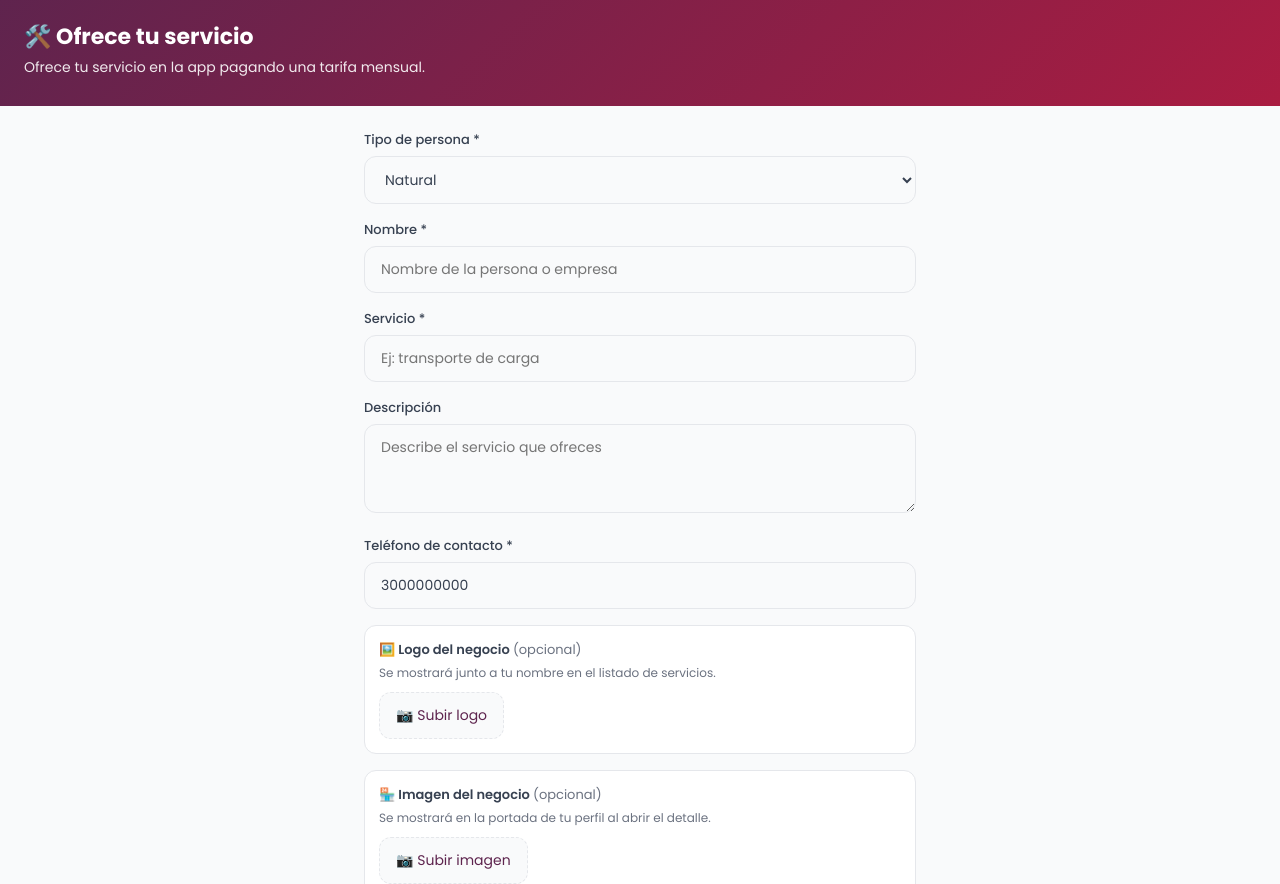
Scenario: RegistroServicio › envía los datos al backend al enviar el formulario
This screenshot has width=1280, height=884.
Type "Técnico Juan" into the field with placeholder "Nombre de la persona o empresa" at x=640, y=270, box x1=364 y1=246 x2=916 y2=293
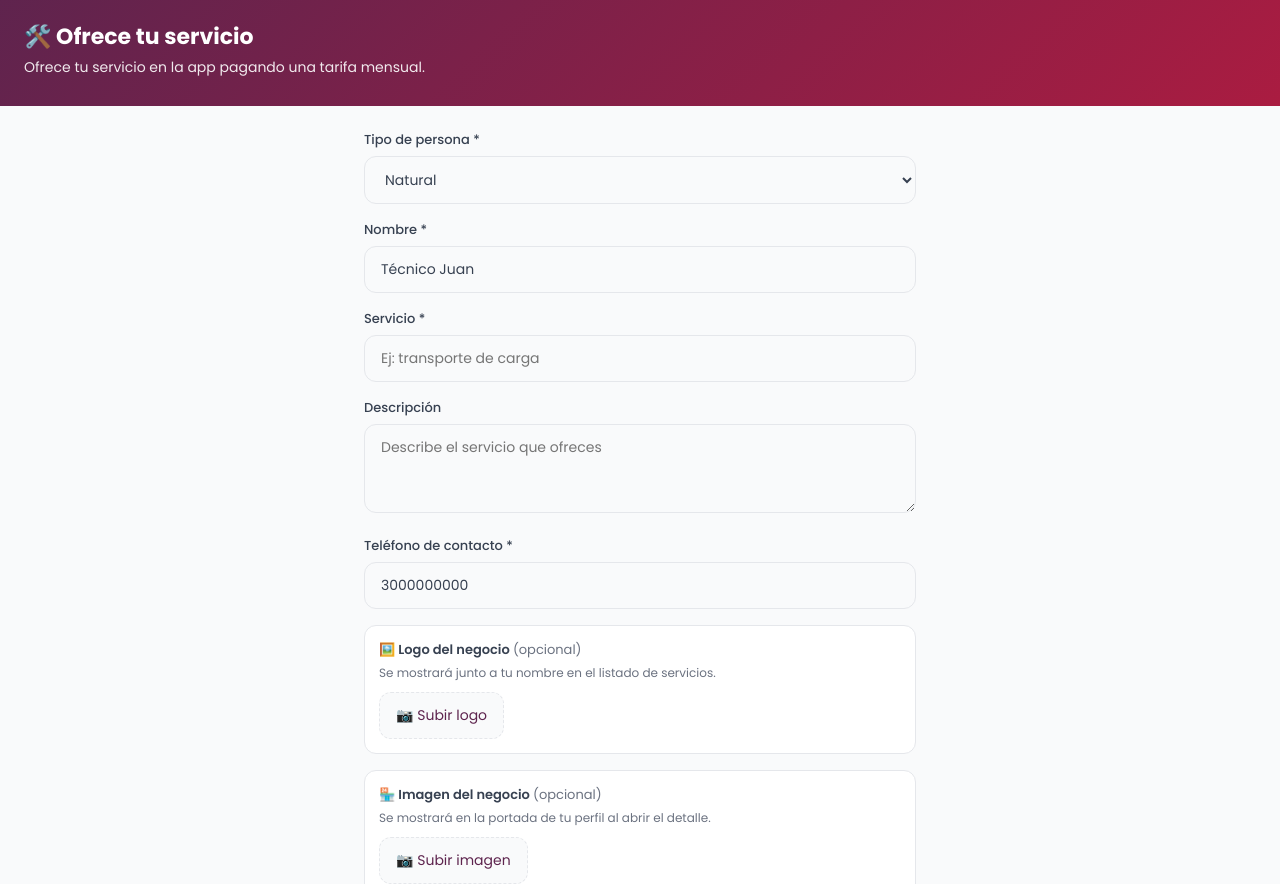
Type "Plomería" into the field with placeholder "Ej: transporte de carga" at x=640, y=358, box x1=364 y1=335 x2=916 y2=382
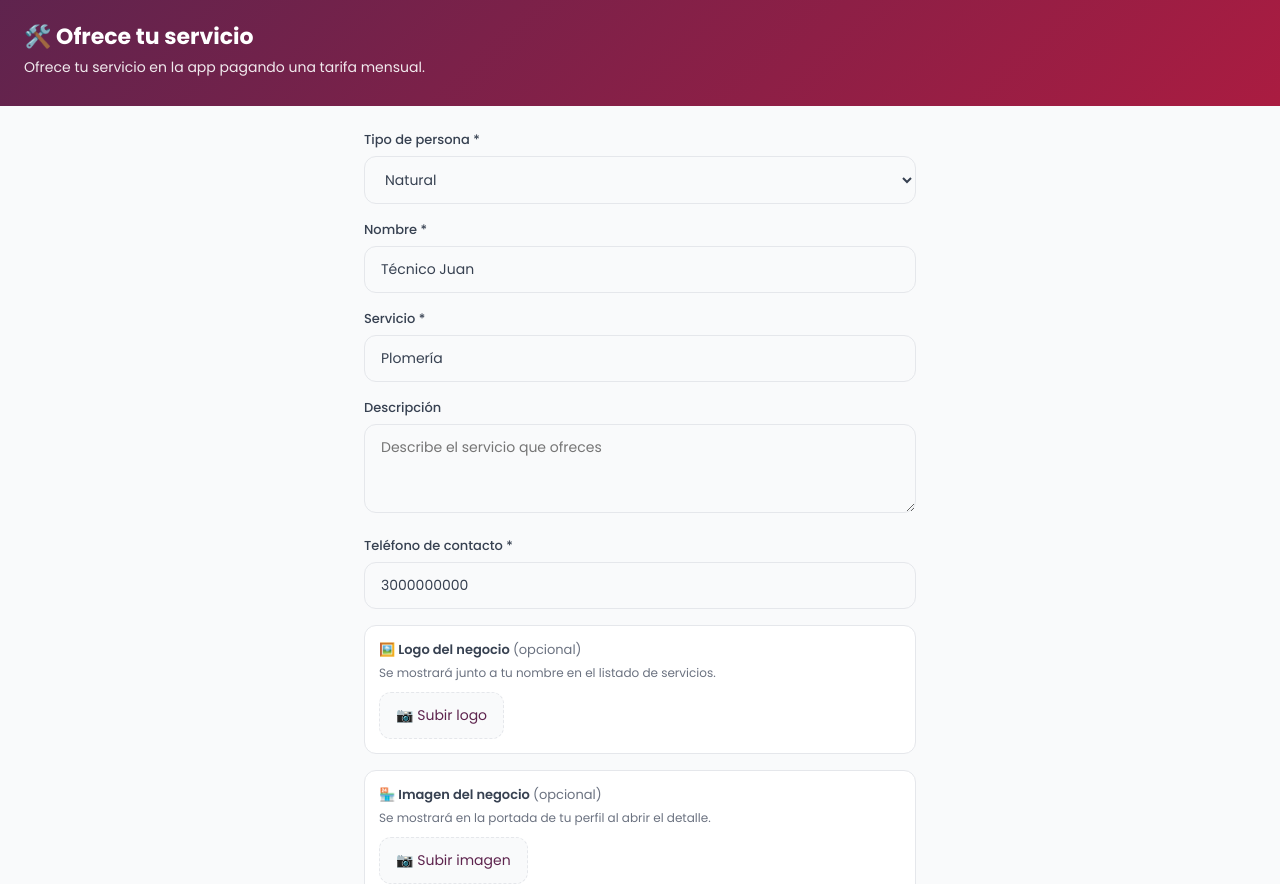
Type "Reparaciones" into the text box with placeholder "Describe el servicio que ofreces" at x=640, y=468, box x1=364 y1=424 x2=916 y2=513
(page scrolled)
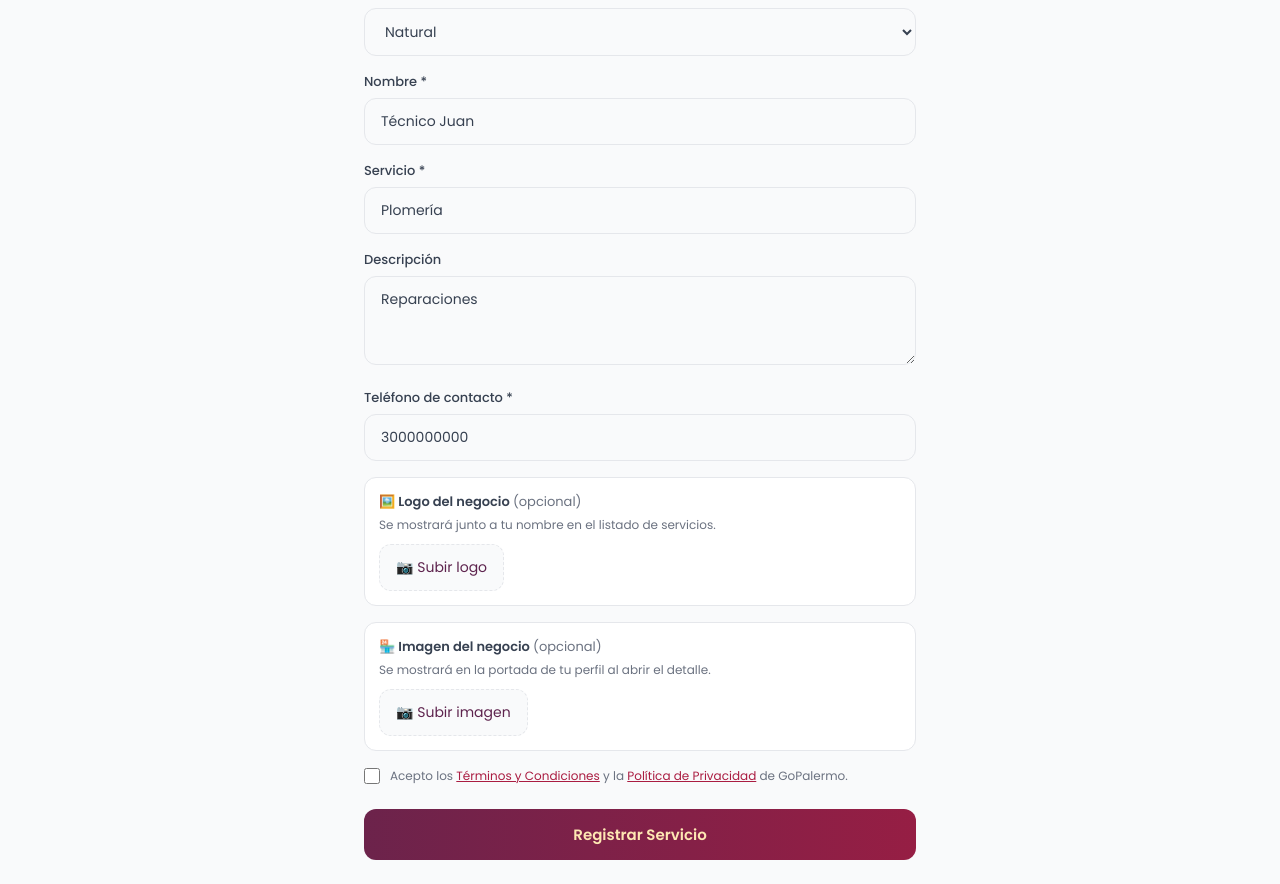
Click the checkbox at x=372, y=776, box x1=364 y1=768 x2=380 y2=784
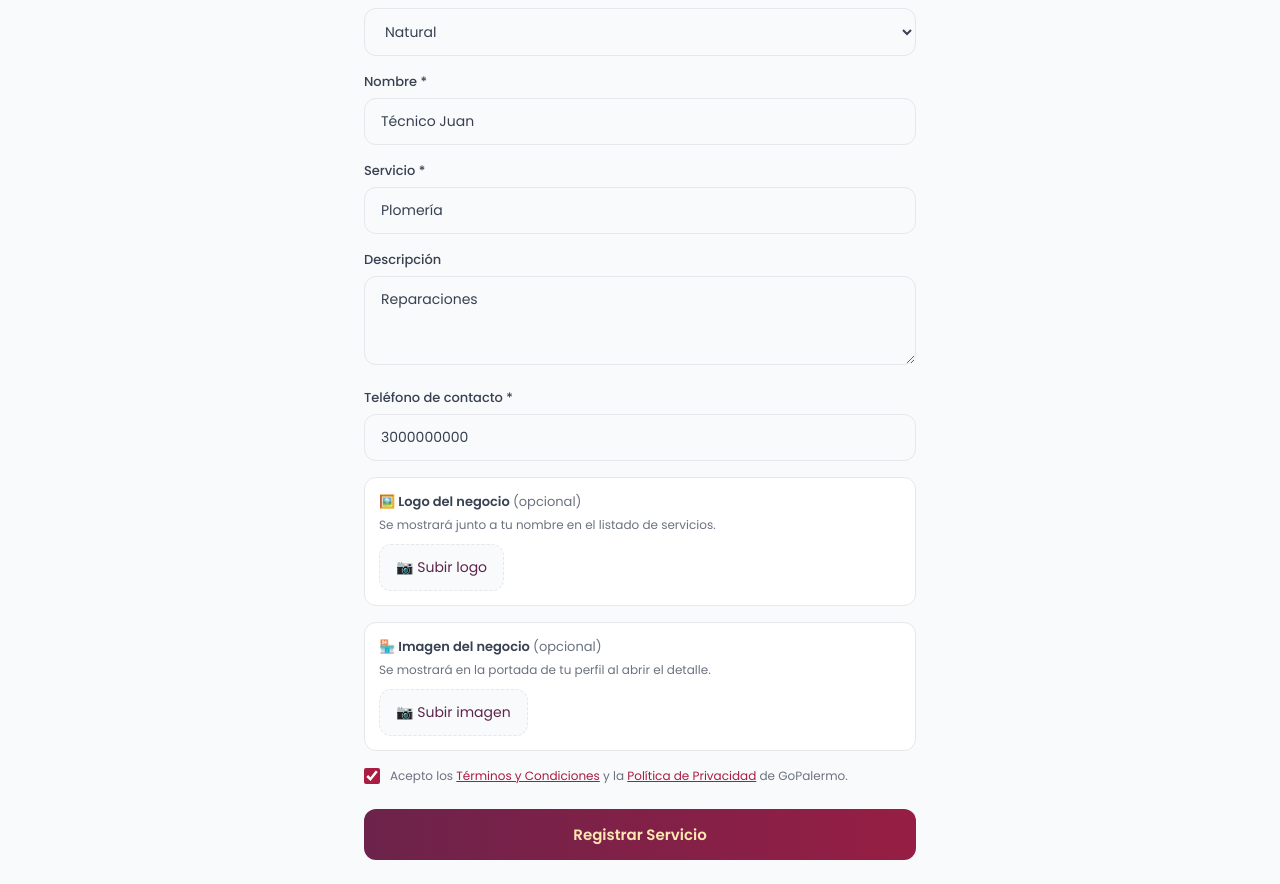
Click the button "Registrar Servicio" at x=640, y=834, box x1=364 y1=809 x2=916 y2=860
(page scrolled)
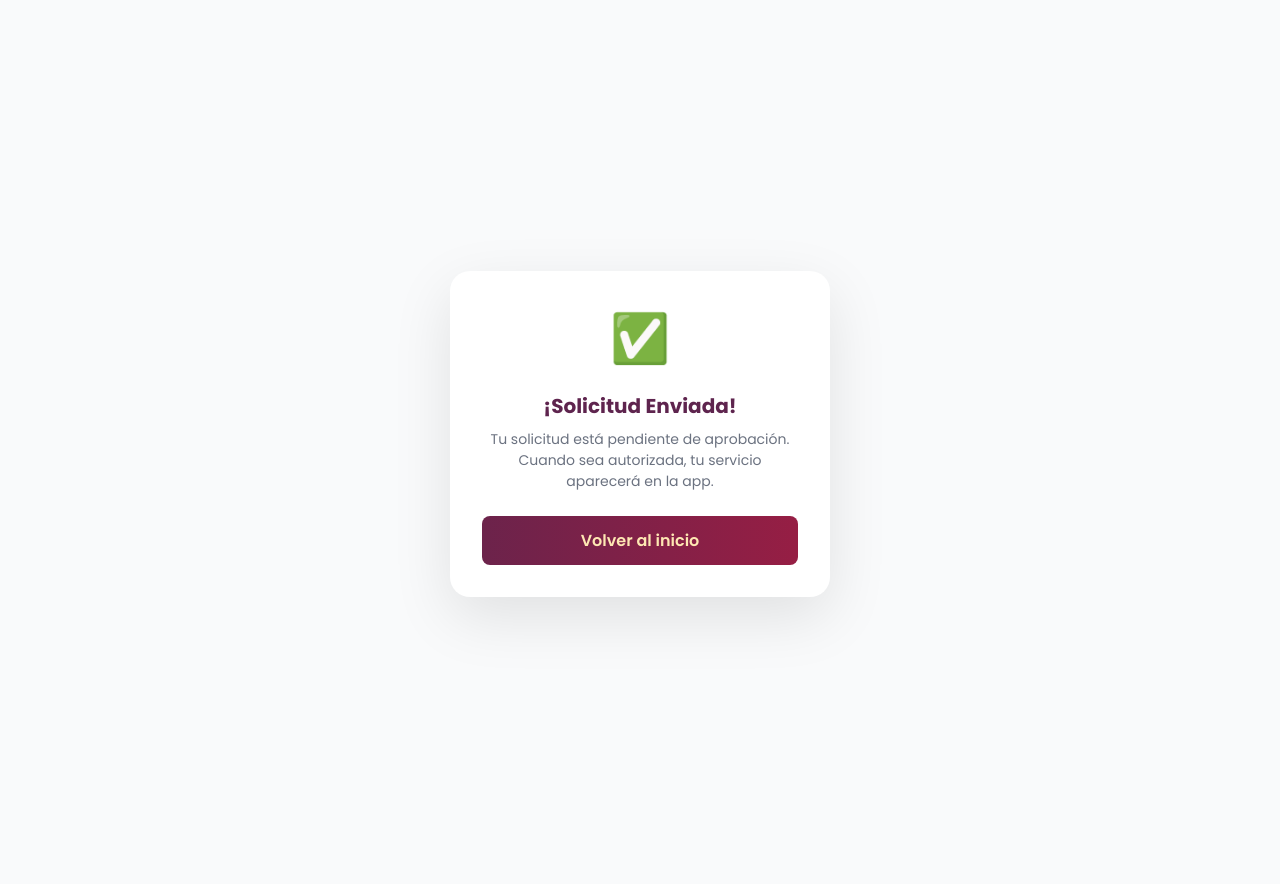
Expected: the heading "¡Solicitud Enviada!" is shown, x1=543 y1=392 x2=737 y2=420
